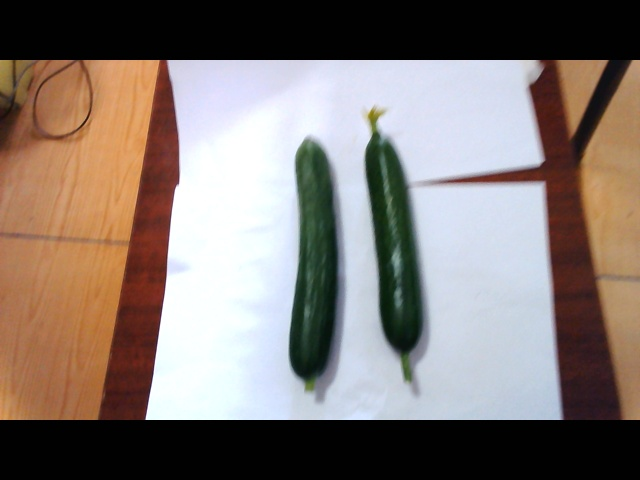cucumber: (360, 112, 430, 380), (283, 132, 340, 390)
